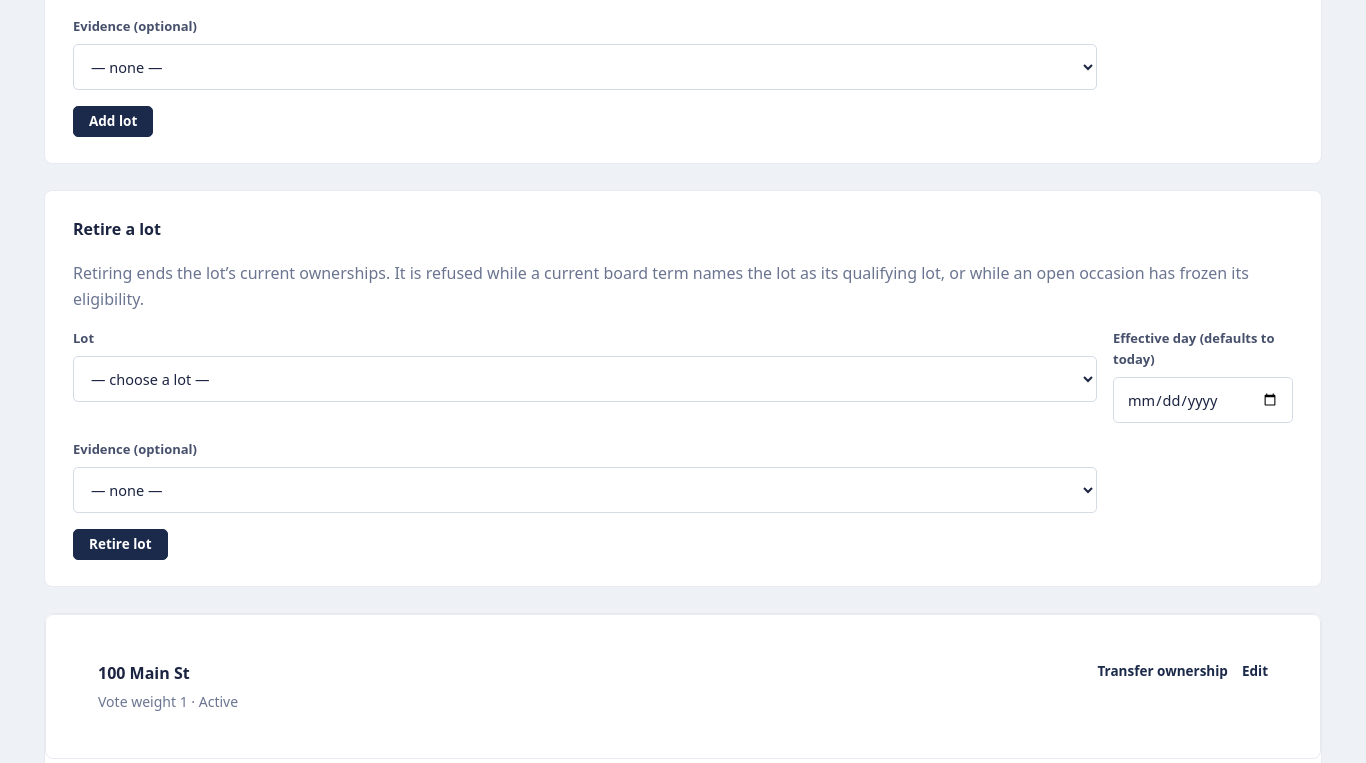
Test: RosterAdminPanel › surfaces the server refusal verbatim
This screenshot has width=1366, height=763.
(page scrolled)
Step 1. Select "100 Main St" in the dropdown labelled "Lot" → (585,379), box [73,356,1097,402]
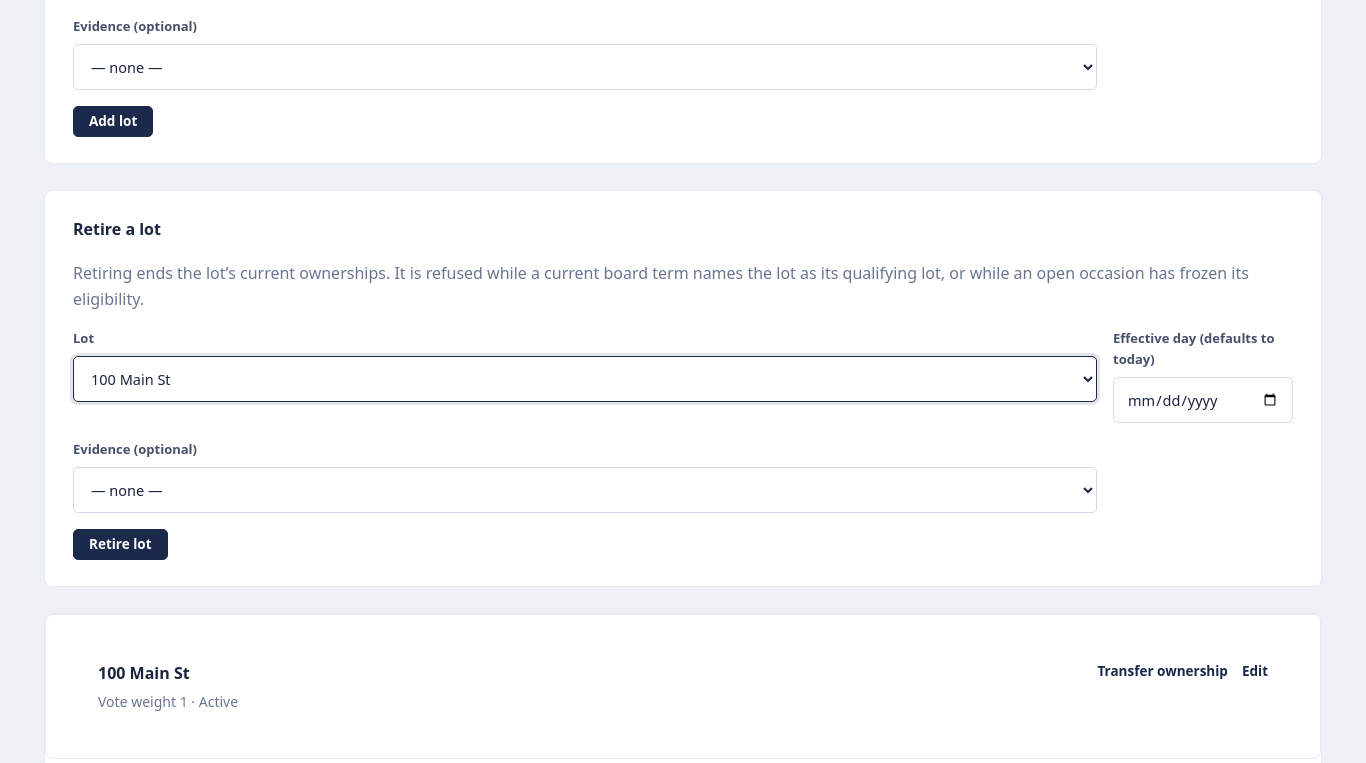
Step 2. Click the button "Retire lot" → (120,544), box [73,529,168,560]
(page scrolled)
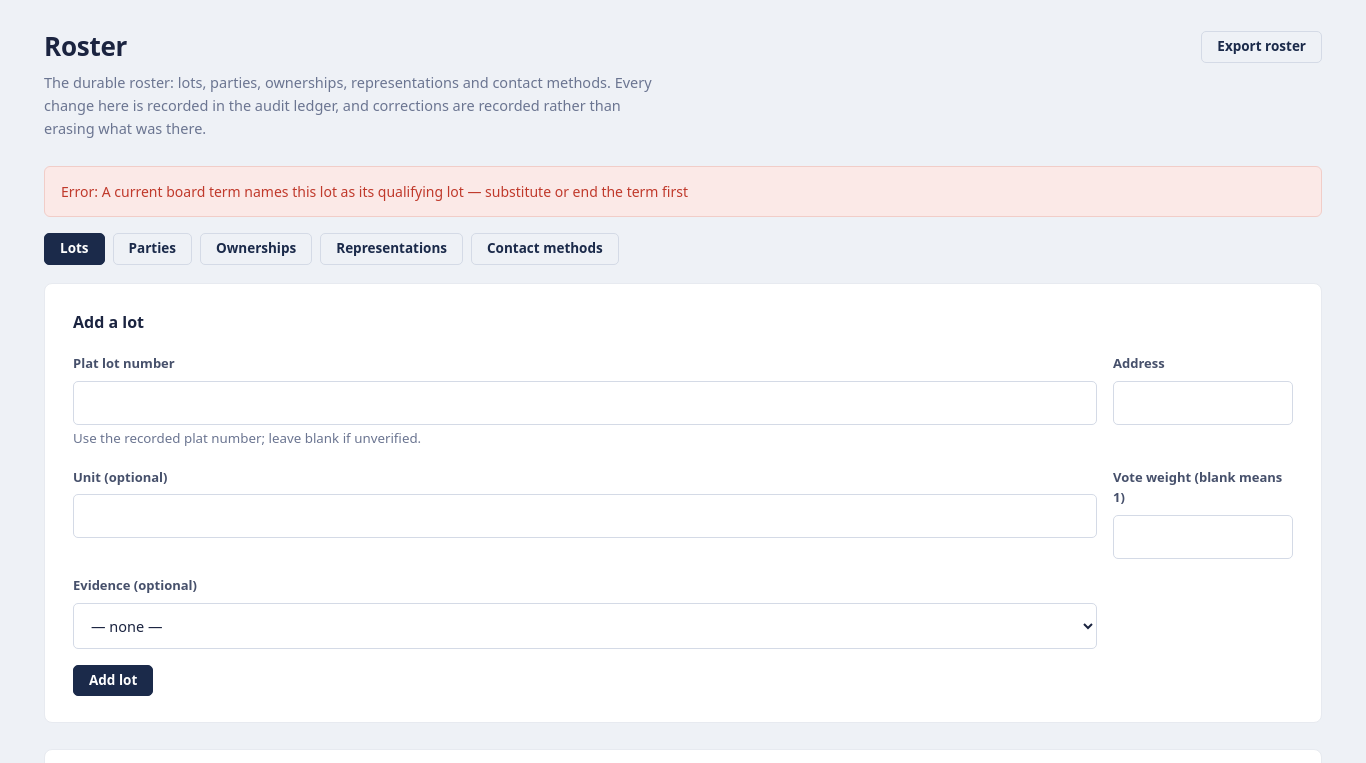
Now the text "A current board term names this lot as its qualifying lot — substitute or end the term first" is shown, box [61,182,688,201]
